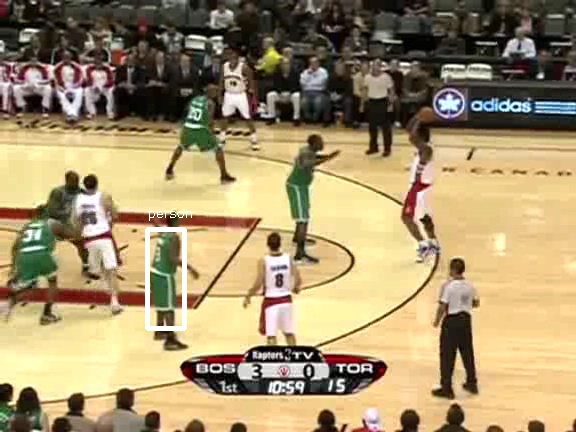person: (148, 232, 182, 313), (147, 232, 181, 313), (149, 232, 183, 313), (148, 231, 182, 312), (148, 233, 182, 314)
target_negative: (166, 157, 388, 431), (294, 143, 454, 346), (464, 128, 551, 283), (391, 278, 435, 302), (434, 373, 466, 402), (485, 410, 505, 418)
